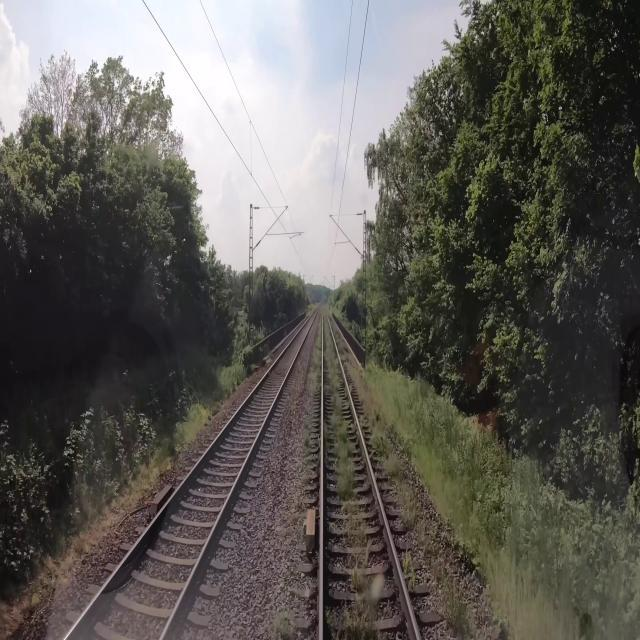Plant: (326, 305, 516, 639), (56, 423, 207, 588), (323, 314, 386, 639), (306, 313, 322, 398), (19, 588, 53, 625), (287, 358, 308, 414), (270, 607, 297, 639), (401, 544, 415, 591), (303, 407, 313, 460)
